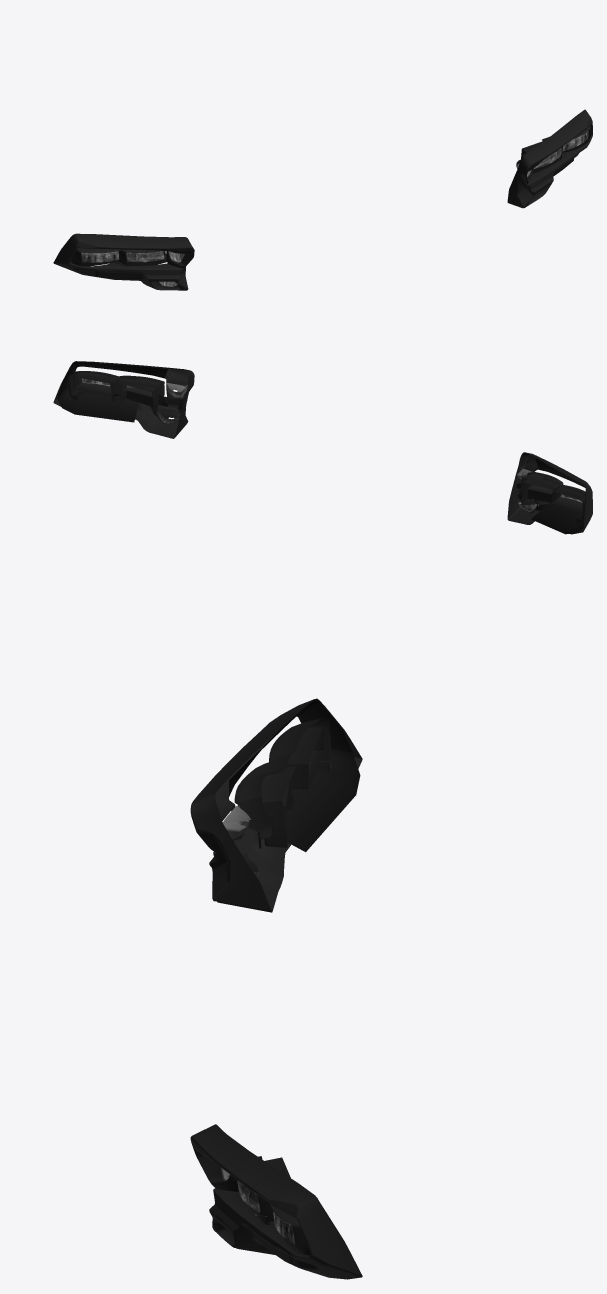
Rendered from headlamp.glb.
3 views of the same model, one above another, from view 1: azimuth 30°, elevation 25°; view 2: azimuth 150°, elevation 25°; view 3: azimuth 270°, elevation 25° (orthographic). The views are drawn at different scales.
Visible parts, largest first — view 1: Coloured_Geo_lodA_Ferrari_PurosangueRewardRecycled_2023Colo.; view 2: Coloured_Geo_lodA_Ferrari_PurosangueRewardRecycled_2023Colo.; view 3: Coloured_Geo_lodA_Ferrari_PurosangueRewardRecycled_2023Colo..
Boxes of the visible parts, bbox=[...] form: Coloured_Geo_lodA_Ferrari_PurosangueRewardRecycled_2023Colo.: bbox=[53, 109, 592, 290]; Coloured_Geo_lodA_Ferrari_PurosangueRewardRecycled_2023Colo.: bbox=[53, 361, 592, 534]; Coloured_Geo_lodA_Ferrari_PurosangueRewardRecycled_2023Colo.: bbox=[190, 698, 362, 1279].
Bounding box in the file's own units: 0.0182 × 0.00394 × 0.00522.
2 materials, 1 textured.
